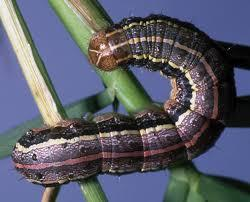fallarmy_worm: (14, 12, 231, 185)
